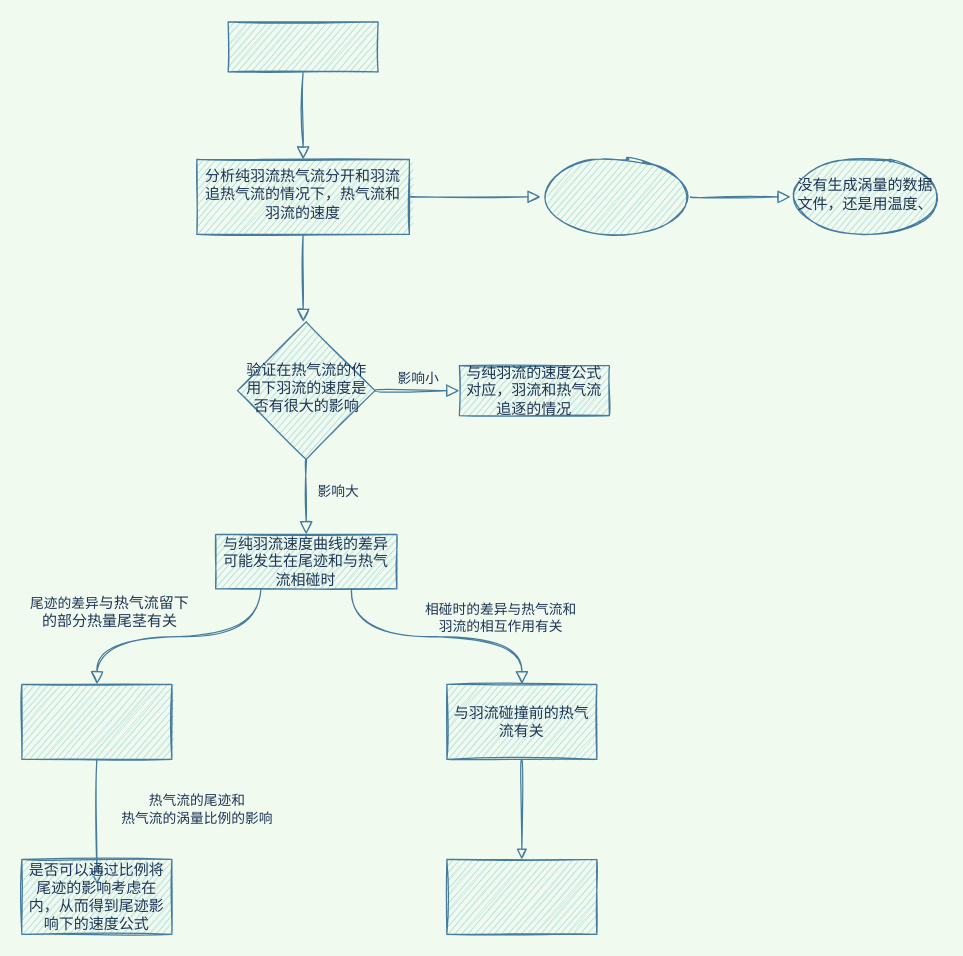
This 963x956 diagram has some shape labels left out. The centre of each missing label's shape, as x and y in pixels:
与热气流留下的部分热量尾茎有关: (x=96, y=721)
涡量比温度更容易区分纯羽流的生成？: (x=615, y=196)
羽流和热气流相互作用: (x=302, y=46)
这个两者作用下的影响作用还未知: (x=521, y=896)
